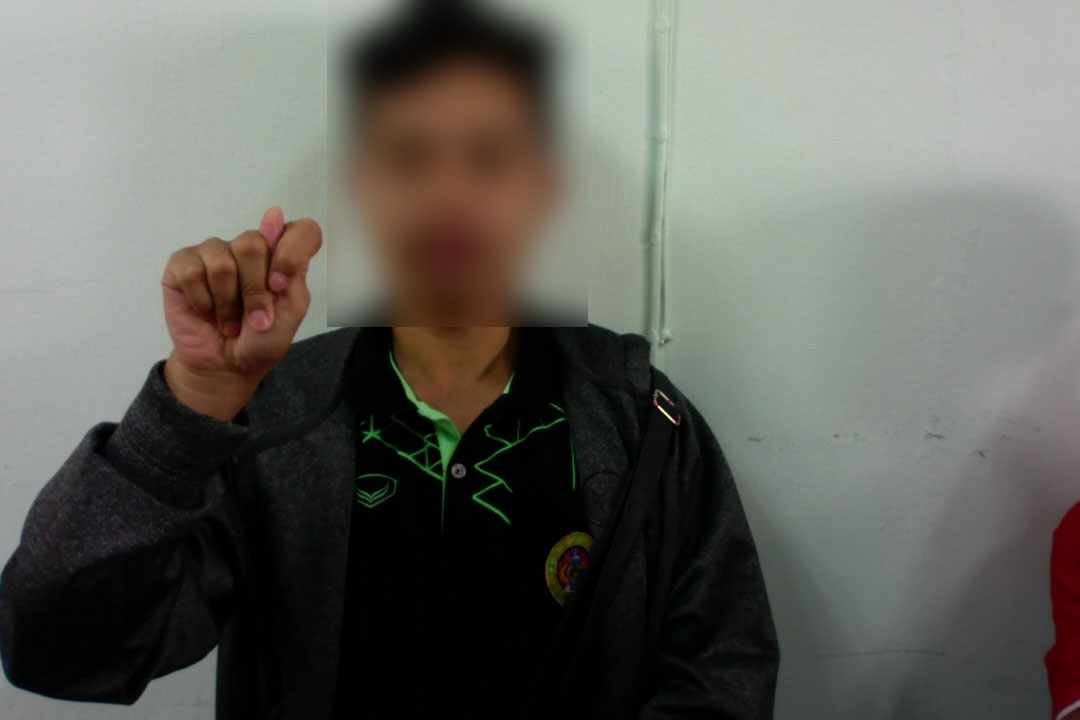tor: (157, 202, 325, 414)
